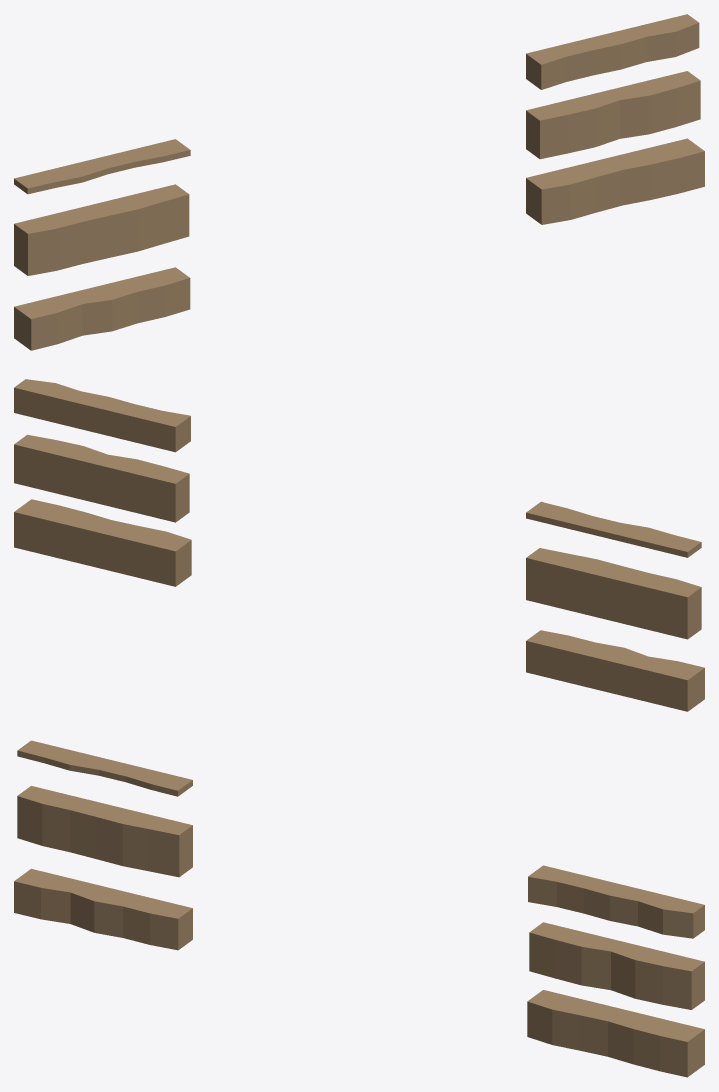
The model's file is HokageCliffOuter_HokageRock.fbx.
The picture shows the model from 3 angles, top to bottom: view 1: azimuth 30°, elevation 25°; view 2: azimuth 150°, elevation 25°; view 3: azimuth 330°, elevation 25°; orthographic projection.
Parts seen in each view (by area): view 1: CliffOuter-1_0.001; view 2: CliffOuter-1_0.001; view 3: CliffOuter-1_0.001.
Part boxes in pixels (x1,y1,x2,y2): CliffOuter-1_0.001: [14, 14, 704, 350]; CliffOuter-1_0.001: [14, 379, 704, 711]; CliffOuter-1_0.001: [14, 740, 704, 1077].
Size of the model in its own units: 30000 by 6800 by 1394.
